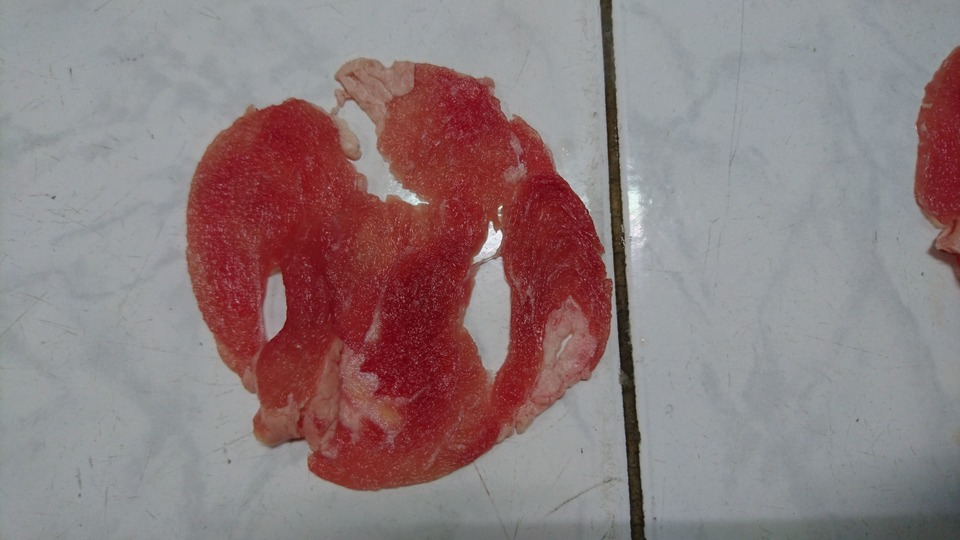restructured meat: (193, 53, 616, 474)
